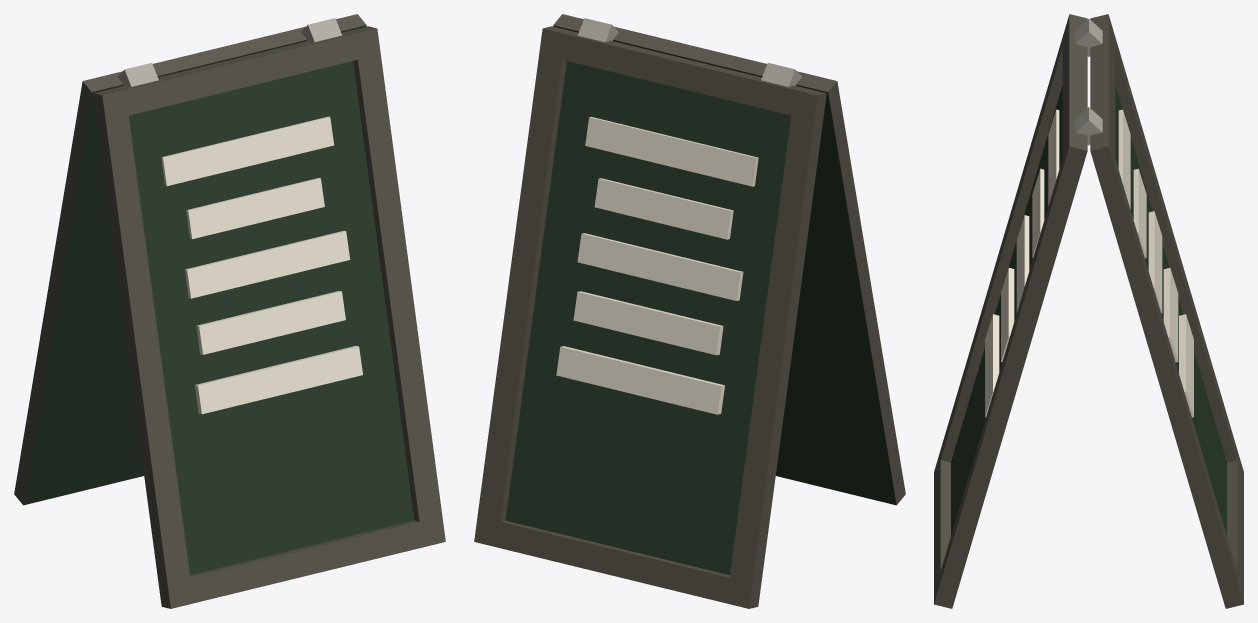
Rendered from CafeMenu.fbx.
3 views of the same model, side by side, from view 1: azimuth 30°, elevation 25°; view 2: azimuth 150°, elevation 25°; view 3: azimuth 270°, elevation 25° (orthographic).
Visible parts, largest first — view 1: Menu; view 2: Menu; view 3: Menu.
Part boxes in pixels (x1=…): Menu: x1=14, y1=14, x2=445, y2=608; Menu: x1=474, y1=14, x2=905, y2=608; Menu: x1=934, y1=14, x2=1243, y2=608.
Size of the model in its own units: 69 by 115 by 68.13.
